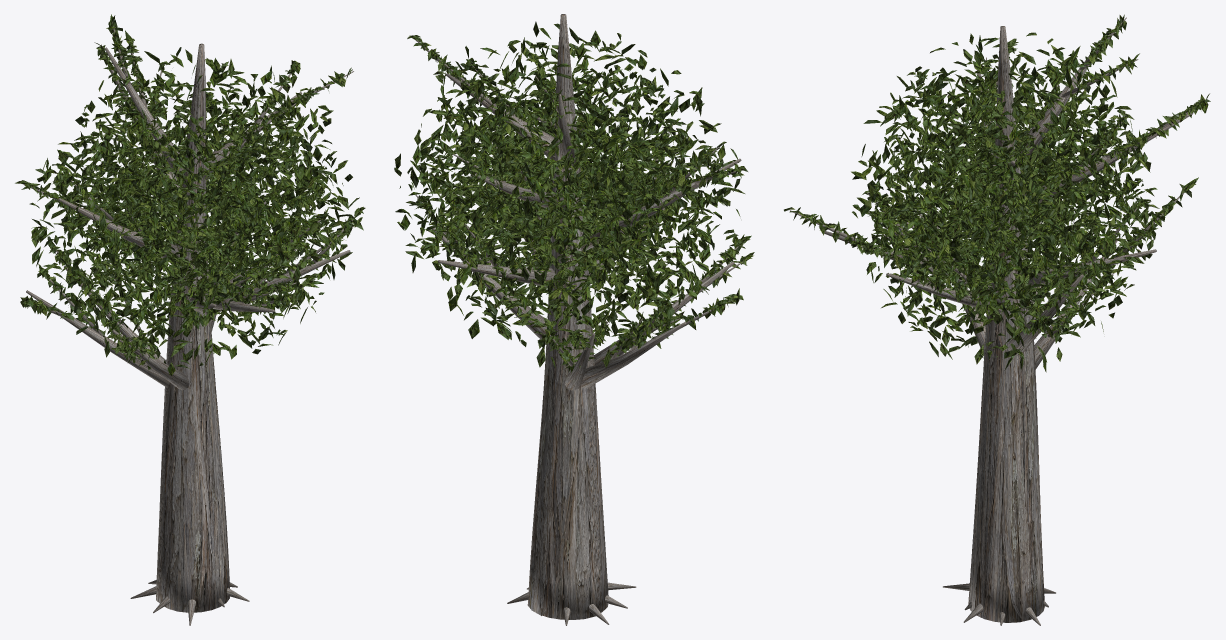
Rendered from watchtower-leafy-birch-v01.glb.
3 renders of one model, left to right at view 1: azimuth 30°, elevation 25°; view 2: azimuth 150°, elevation 25°; view 3: azimuth 270°, elevation 25°, orthographic. The views are drawn at different scales.
Visible parts, largest first — view 1: watchtower-leafy-birch-v01; view 2: watchtower-leafy-birch-v01; view 3: watchtower-leafy-birch-v01.
Boxes of the visible parts, x1,y1,x2,y2 form: watchtower-leafy-birch-v01: (15, 14, 365, 625); watchtower-leafy-birch-v01: (394, 14, 754, 625); watchtower-leafy-birch-v01: (784, 14, 1210, 625).
Size of the model in its own units: 5.26 by 8.4 by 5.6.
2 materials, 2 textured.
